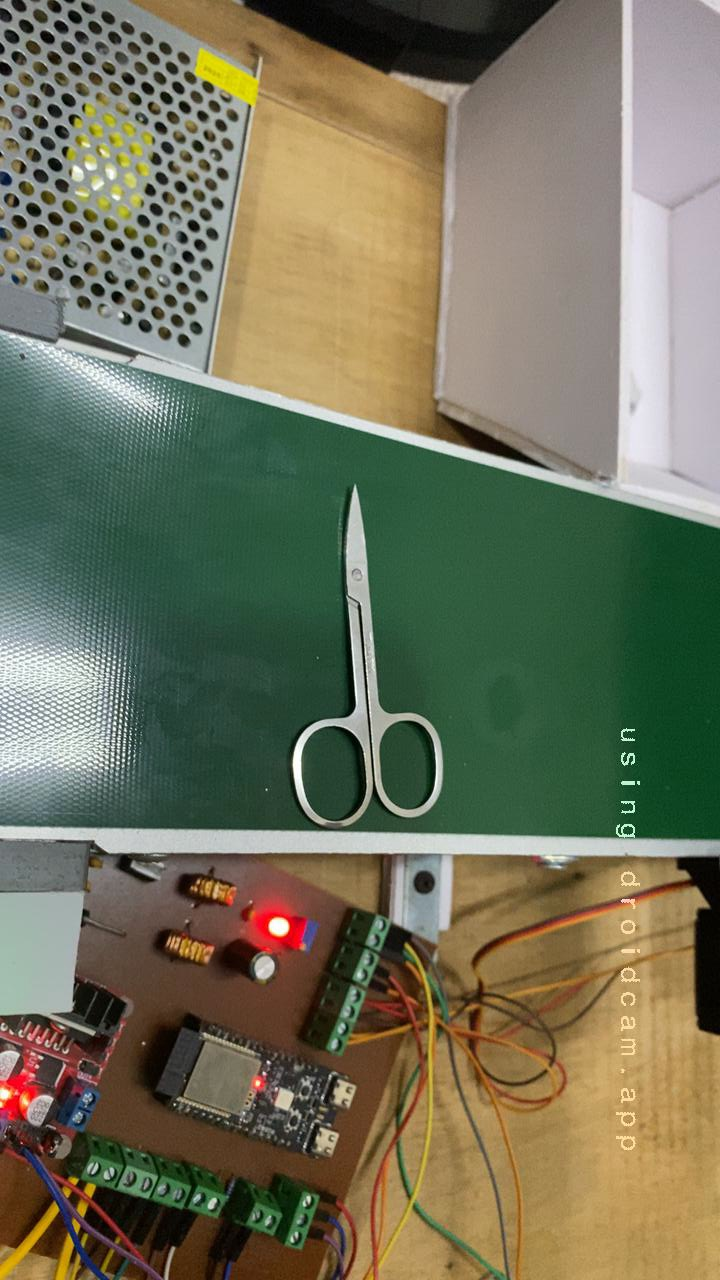scissor: (228, 468, 466, 845)
